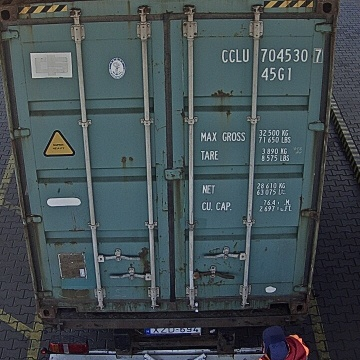serial_id: (222, 48, 323, 62)
